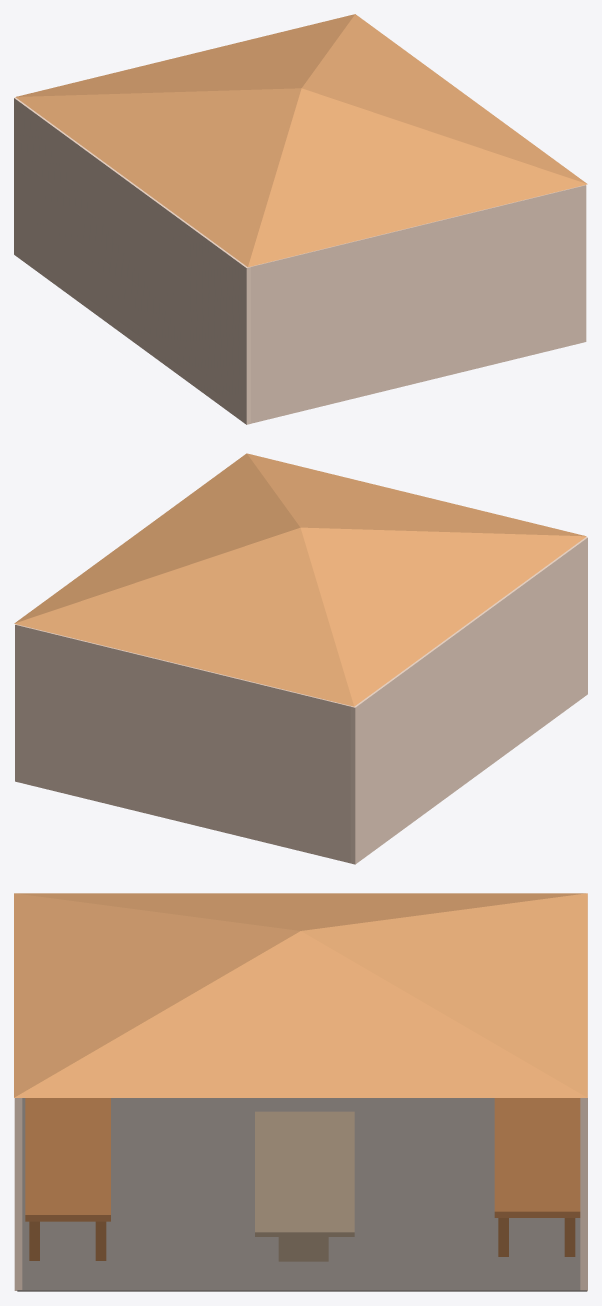
The model's file is paredes2021.glb.
3 renders of one model, top to bottom at view 1: azimuth 30°, elevation 25°; view 2: azimuth 150°, elevation 25°; view 3: azimuth 270°, elevation 25°, orthographic. The views are drawn at different scales.
Parts seen in each view (by area): view 1: Cubo.001, Cube.003, Cube.004; view 2: Cubo.001, Cube.001, Cube.004; view 3: Cubo.001, Cubo, Cubo.002, Cubo.003, Cubo.008, Cube.001, Cube.003.
Part boxes in pixels (box(x1,y1,x2,y2)): Cubo.001: box(15, 14, 587, 266); Cube.003: box(250, 185, 586, 423); Cube.004: box(14, 97, 250, 424); Cubo.001: box(14, 453, 586, 706); Cube.001: box(15, 624, 351, 863); Cube.004: box(350, 537, 587, 864); Cubo.001: box(14, 893, 587, 1097); Cubo: box(17, 1098, 586, 1291); Cubo.002: box(255, 1111, 354, 1261); Cubo.003: box(25, 1098, 110, 1260); Cubo.008: box(494, 1098, 580, 1256); Cube.001: box(580, 896, 587, 1291); Cube.003: box(14, 1098, 22, 1290).
Bounding box in the file's own units: 34.09 × 20.06 × 40.27.
